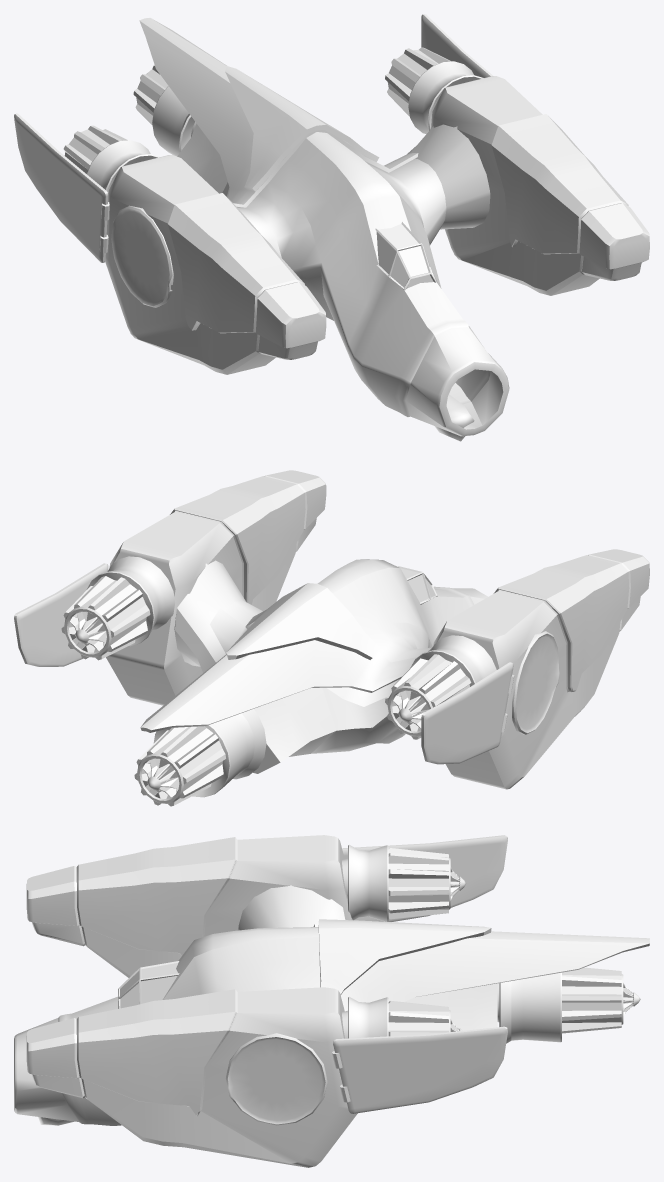
File: interceptor.fbx
3 views of the same model, one above another, from view 1: azimuth 30°, elevation 25°; view 2: azimuth 150°, elevation 25°; view 3: azimuth 270°, elevation 25° (orthographic). The views are drawn at different scales.
Visible parts, largest first — view 1: body2; view 2: body2; view 3: body2.
Boxes of the visible parts, left/top/right/bottom form: body2: left=14, top=14, right=649, bottom=441; body2: left=14, top=470, right=649, bottom=806; body2: left=14, top=835, right=649, bottom=1167.
Size of the model in its own units: 1292 by 632 by 1791.
1 material, 1 textured.
